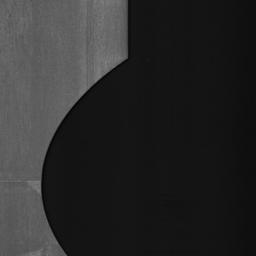Crescent gap: (41, 60, 126, 256)
